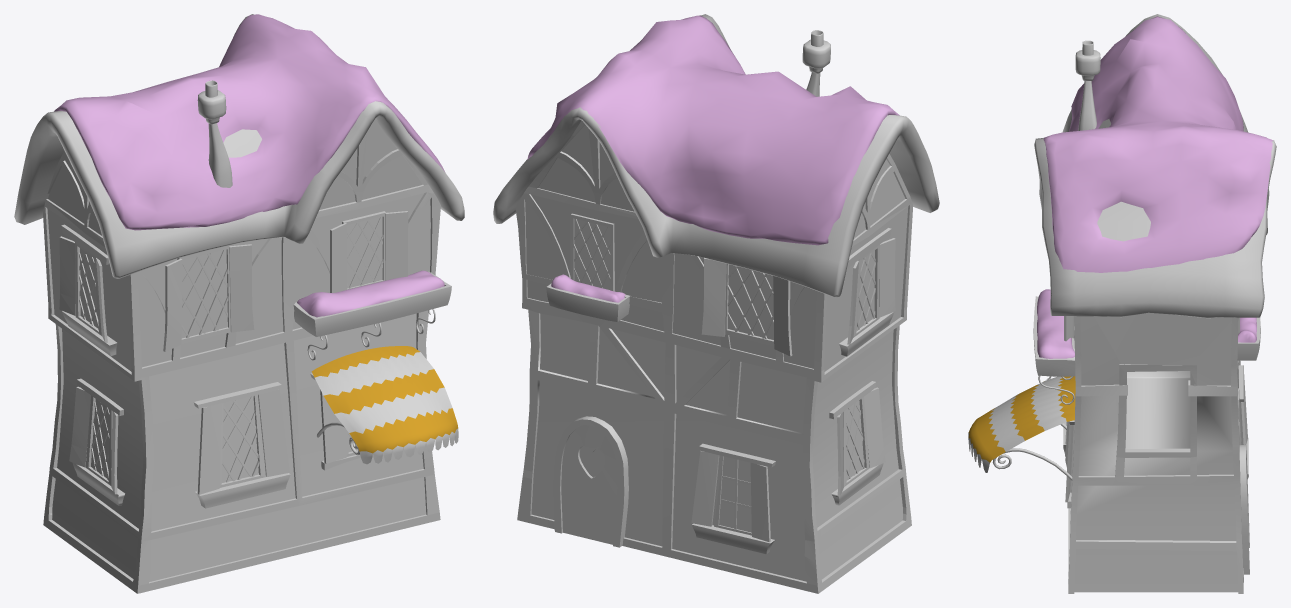
Rendered from Pony_House_06.fbx.
3 renders of one model, left to right at view 1: azimuth 30°, elevation 25°; view 2: azimuth 150°, elevation 25°; view 3: azimuth 270°, elevation 25°, orthographic. The views are drawn at different scales.
Visible parts, largest first — view 1: House_06, House_06Snow; view 2: House_06, House_06Snow; view 3: House_06, House_06Snow.
Part boxes in pixels (bbox=[...]): House_06: bbox=[14, 14, 464, 593]; House_06Snow: bbox=[54, 14, 445, 317]; House_06: bbox=[493, 14, 939, 593]; House_06Snow: bbox=[527, 15, 899, 302]; House_06: bbox=[968, 14, 1276, 593]; House_06Snow: bbox=[1037, 16, 1272, 358].
Bounding box in the file's own units: 23.11 × 29.51 × 18.25.
